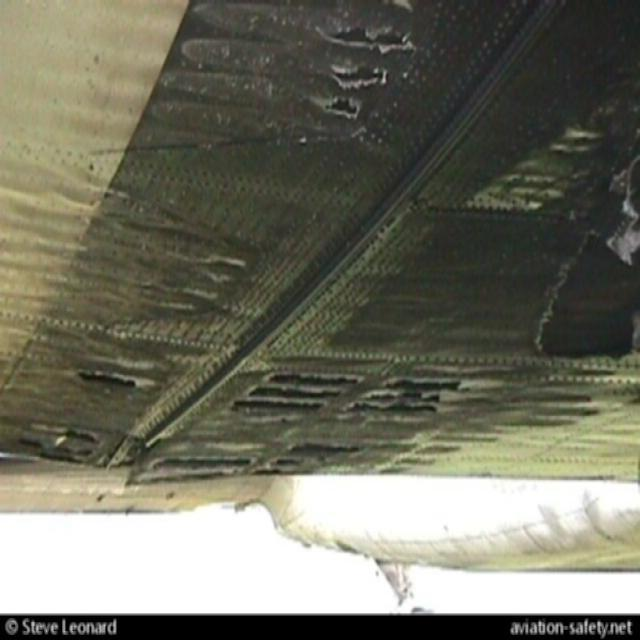crack: (311, 14, 418, 123)
